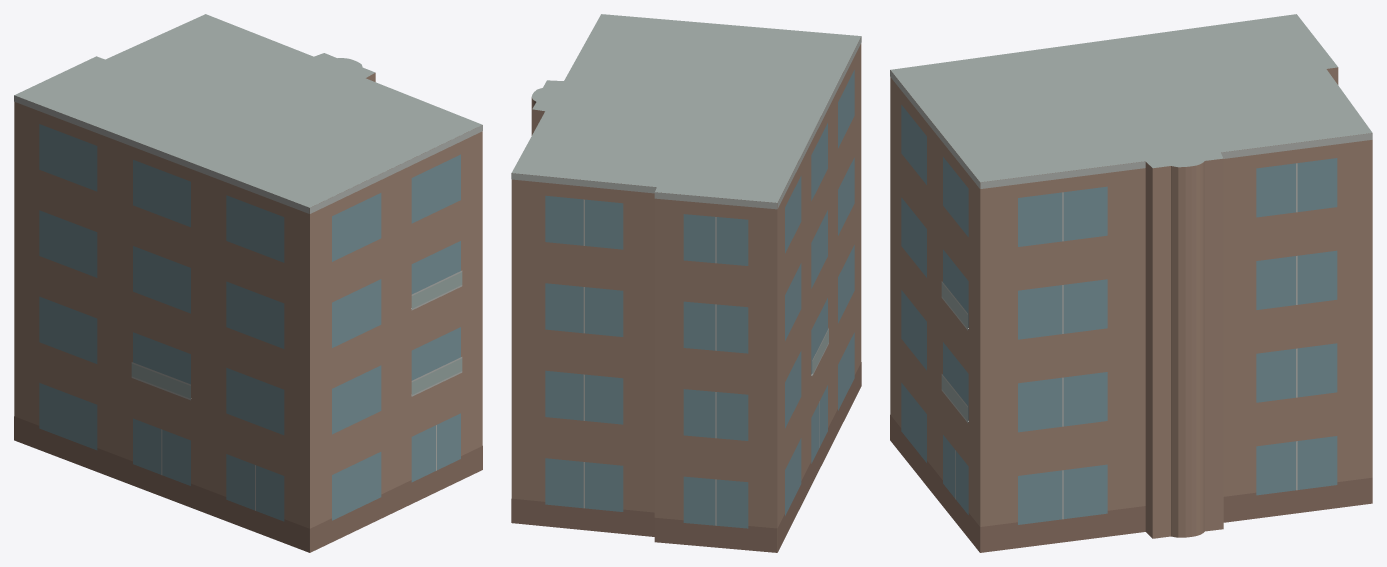
File: survey-upis-33015181.glb
3 renders of one model, left to right at view 1: azimuth 30°, elevation 25°; view 2: azimuth 150°, elevation 25°; view 3: azimuth 270°, elevation 25°, orthographic. The views are drawn at different scales.
Parts seen in each view (by area): view 1: survey-upis-33015181.tmp; view 2: survey-upis-33015181.tmp; view 3: survey-upis-33015181.tmp.
Part boxes in pixels (<box>): survey-upis-33015181.tmp: <box>14,14,482,552</box>; survey-upis-33015181.tmp: <box>511,14,861,552</box>; survey-upis-33015181.tmp: <box>890,14,1372,552</box>.
Size of the model in its own units: 12.88 by 13.21 by 15.6.
